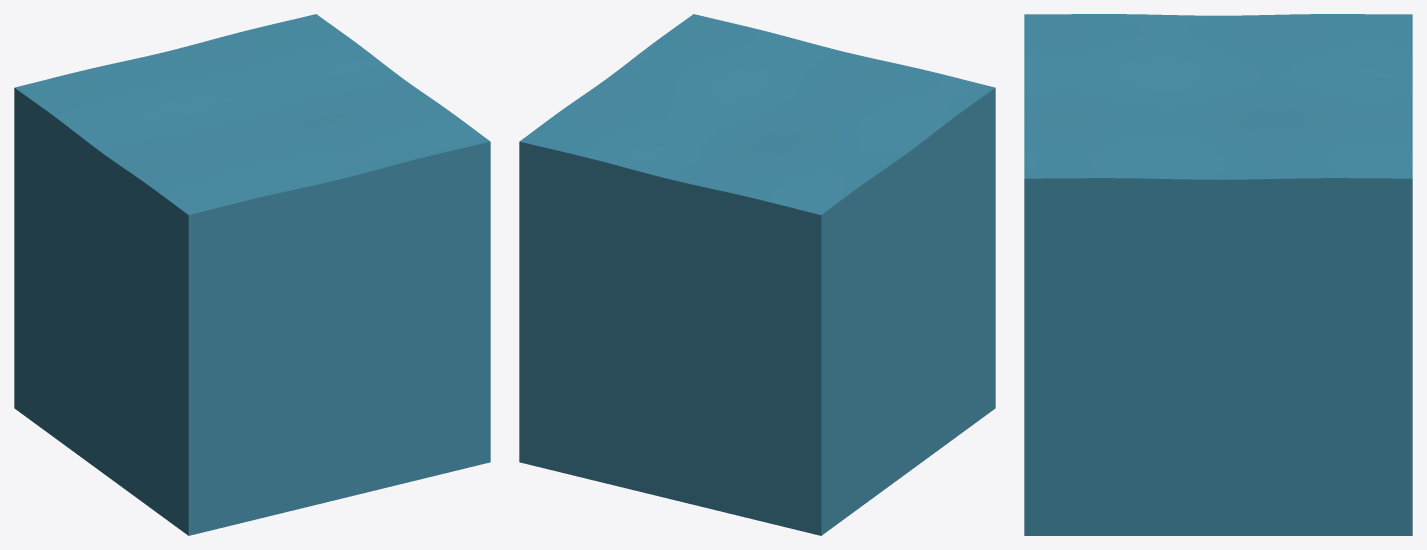
The model's file is slpool_wave20.glb.
3 views of the same model, side by side, from view 1: azimuth 30°, elevation 25°; view 2: azimuth 150°, elevation 25°; view 3: azimuth 270°, elevation 25° (orthographic). The views are drawn at different scales.
Parts seen in each view (by area): view 1: poolWater; view 2: poolWater; view 3: poolWater.
Boxes of the visible parts, x1=… form: poolWater: x1=14, y1=14, x2=490, y2=535; poolWater: x1=519, y1=14, x2=995, y2=535; poolWater: x1=1024, y1=14, x2=1412, y2=535.
Size of the model in its own units: 2 by 2.04 by 2.
